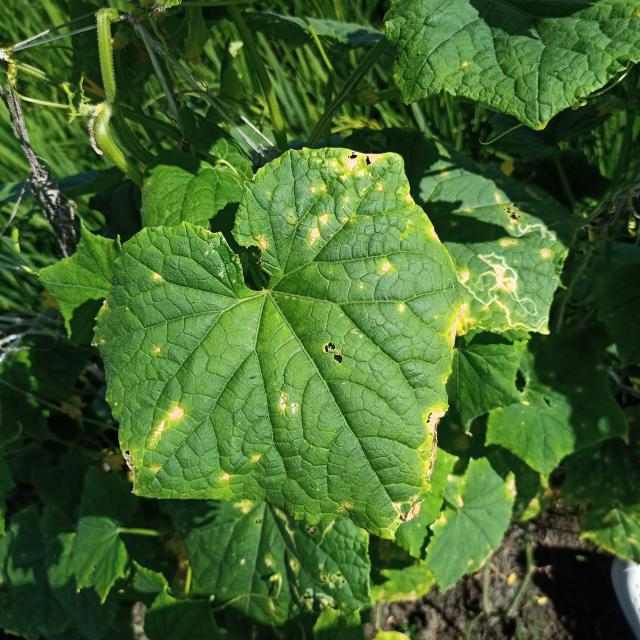disease_cucumber: (280, 150, 398, 245), (418, 404, 456, 480), (143, 407, 183, 475), (273, 391, 304, 419), (148, 268, 167, 288), (374, 258, 393, 276), (216, 469, 234, 482), (249, 452, 267, 464), (392, 298, 406, 313)
